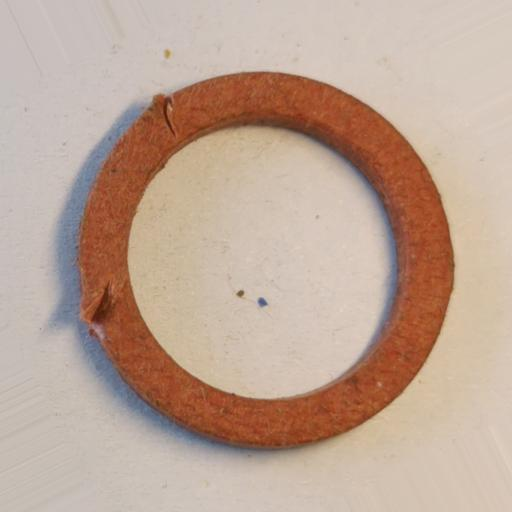defect: (81, 275, 131, 344), (153, 92, 178, 137)
